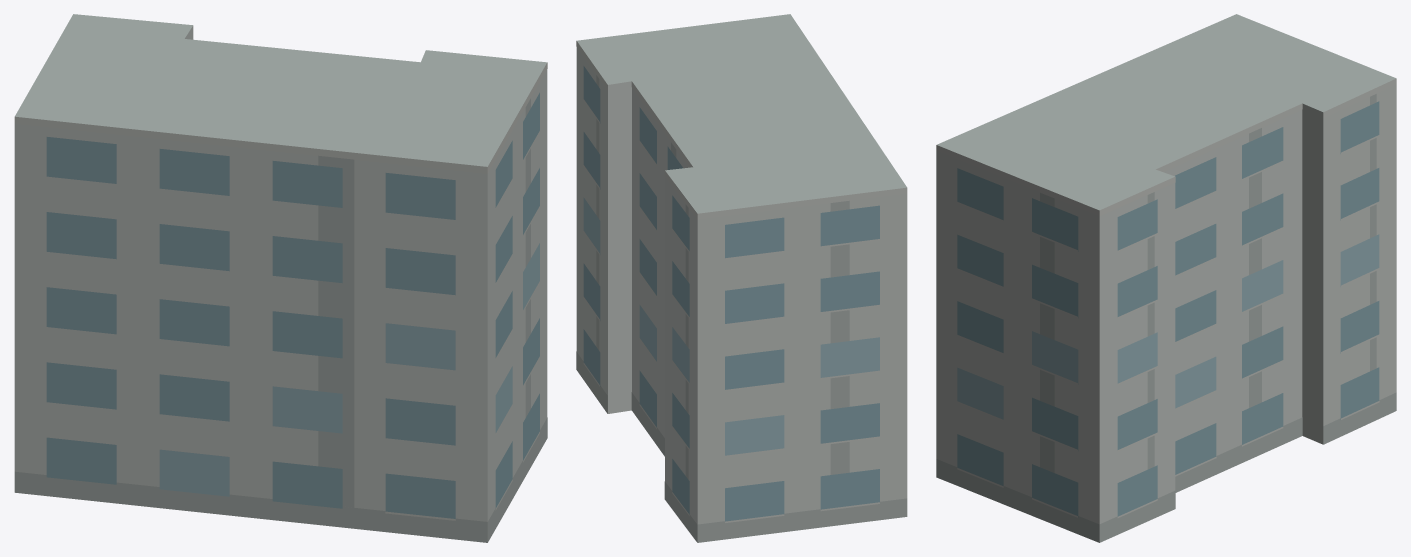
File: survey-upis-32884195.glb
The picture shows the model from 3 angles, left to right: view 1: azimuth 30°, elevation 25°; view 2: azimuth 150°, elevation 25°; view 3: azimuth 270°, elevation 25°; orthographic projection. The views are drawn at different scales.
Parts seen in each view (by area): view 1: survey-upis-32884195.tmp; view 2: survey-upis-32884195.tmp; view 3: survey-upis-32884195.tmp.
Boxes of the visible parts, <box> form: survey-upis-32884195.tmp: <box>14,14,547,542</box>; survey-upis-32884195.tmp: <box>576,14,907,542</box>; survey-upis-32884195.tmp: <box>936,14,1396,542</box>.
Size of the model in its own units: 16.99 by 13.4 by 16.82.
